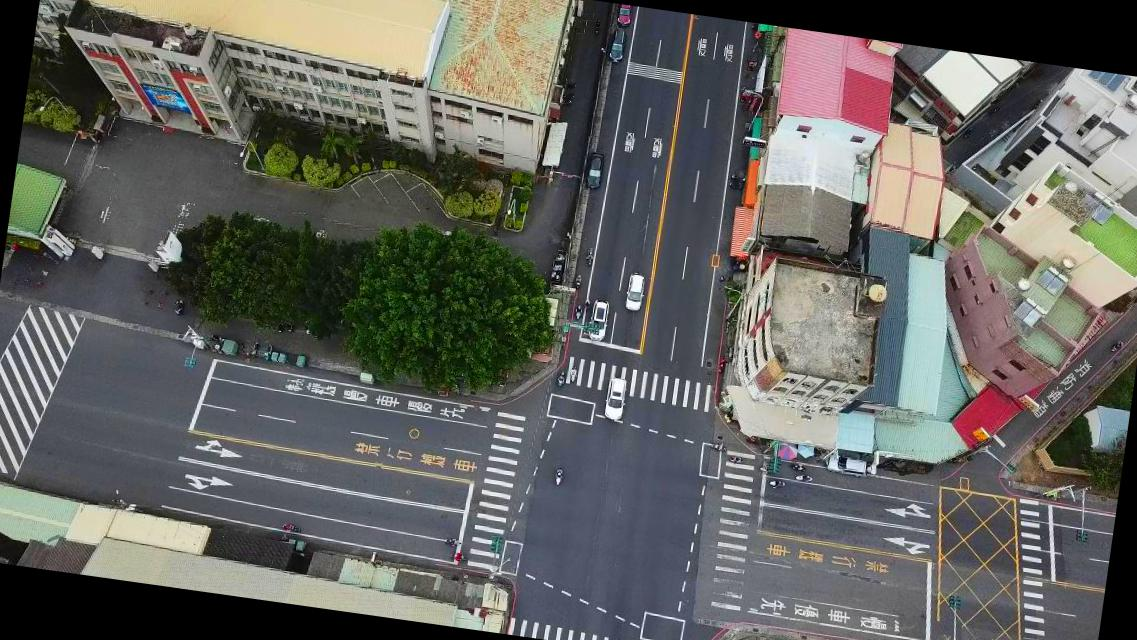vehicle: (602, 376, 628, 422), (825, 452, 870, 478), (585, 298, 610, 343), (583, 151, 606, 190), (624, 271, 645, 312), (605, 26, 626, 65), (617, 5, 633, 23)
